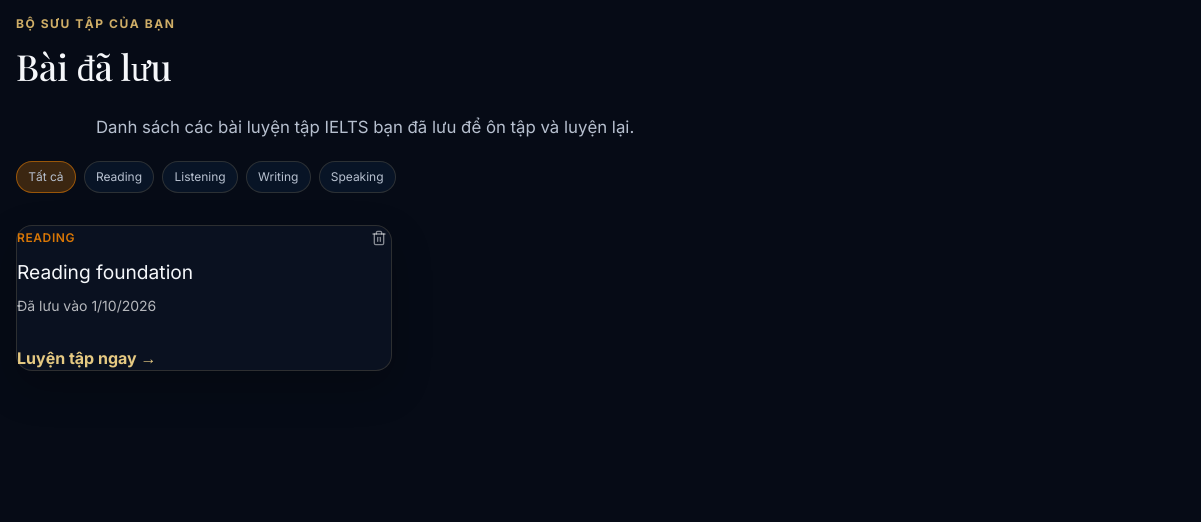
SavedPracticesPage › allows unsaving a practice with instant UI update
Expected: the link "Reading foundation" is shown, [17,260,193,284]
Click the button named "Bỏ lưu" at (379, 238), box [367,226,391,250]
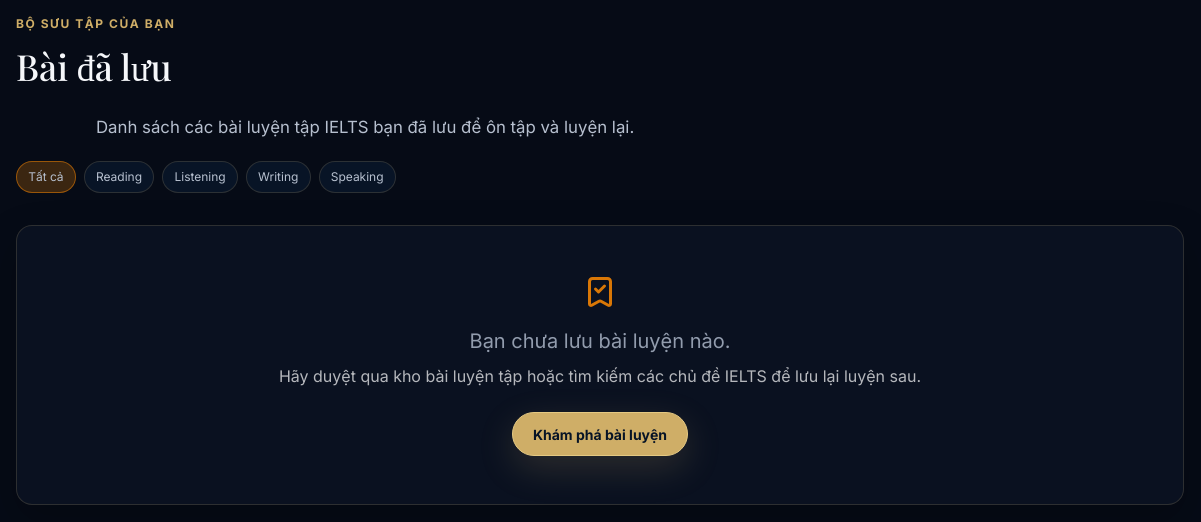
Result: the heading "Bạn chưa lưu bài luyện nào." is shown at [470,329,730,353]
